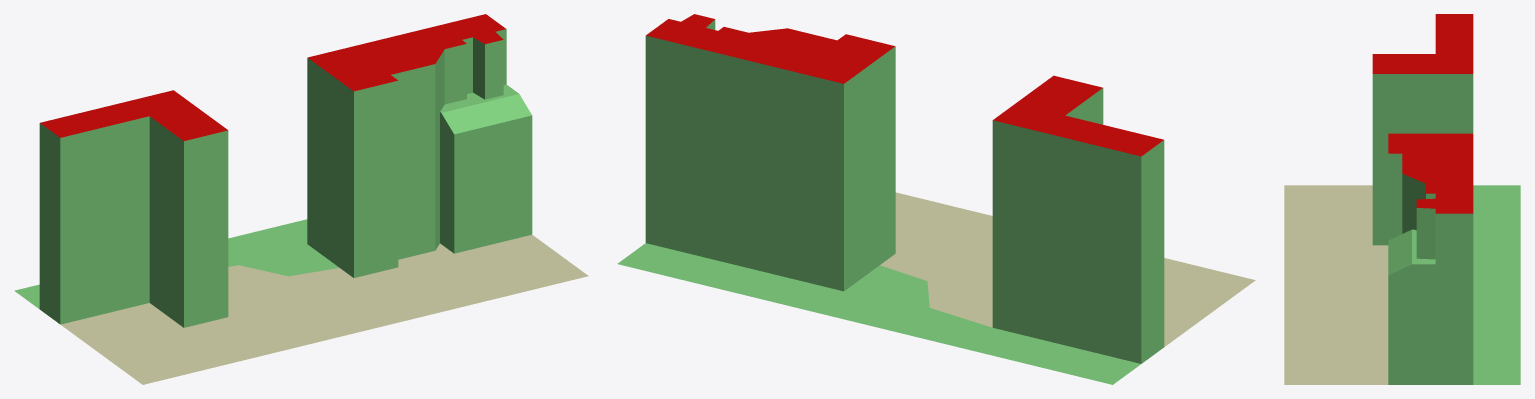
File: x_oo_ground_28_wall1_rmstrd_2.fbx
The picture shows the model from 3 angles, left to right: view 1: azimuth 30°, elevation 25°; view 2: azimuth 150°, elevation 25°; view 3: azimuth 270°, elevation 25°; orthographic projection. The views are drawn at different scales.
Parts seen in each view (by area): view 1: x_oo_ground_28_wall1_rmstrd_2_1; view 2: x_oo_ground_28_wall1_rmstrd_2_1; view 3: x_oo_ground_28_wall1_rmstrd_2_1.
Part boxes in pixels (bbox=[...]): x_oo_ground_28_wall1_rmstrd_2_1: bbox=[14, 14, 588, 384]; x_oo_ground_28_wall1_rmstrd_2_1: bbox=[617, 14, 1255, 384]; x_oo_ground_28_wall1_rmstrd_2_1: bbox=[1284, 14, 1520, 384].
Size of the model in its own units: 10 by 4 by 5.
